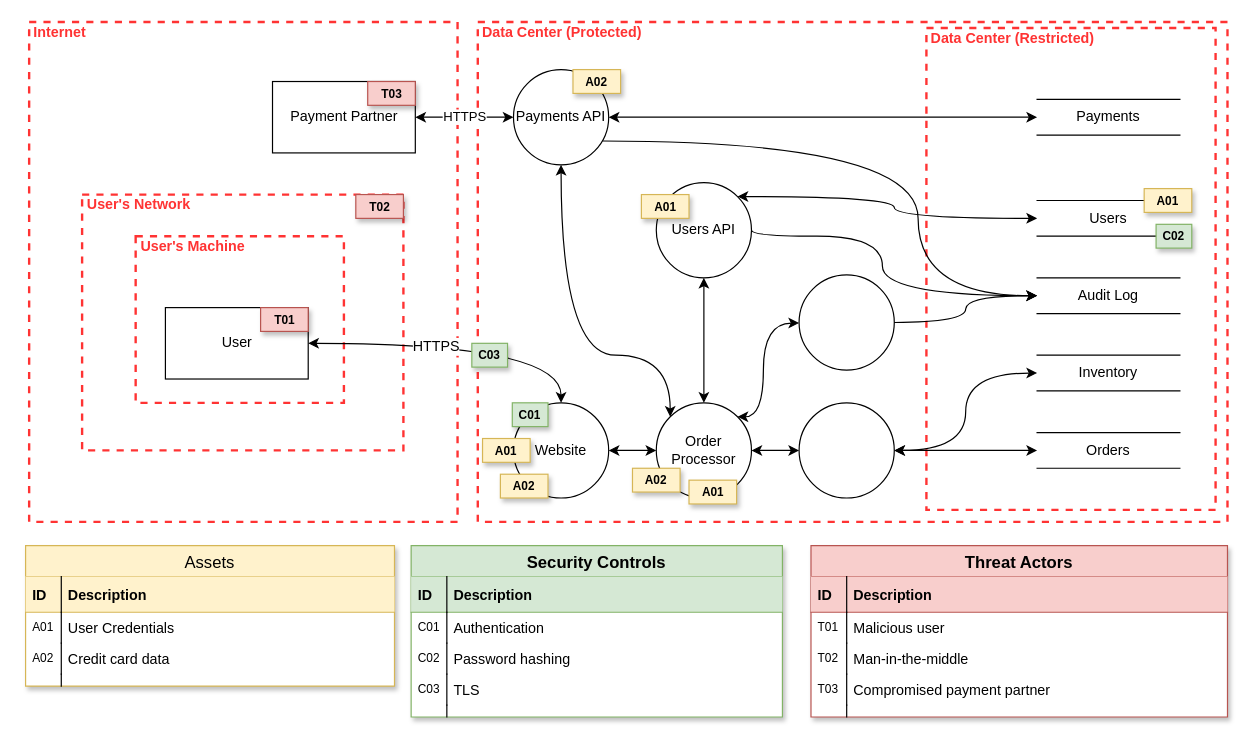
Image size: 1255x746. Some labels were removed from this diagram. The shapes that lost their labels are listed below. From the top down, each one's centre as x and y in pixels, then its label:
At (x=846, y=322): "Data Logger".
At (x=846, y=450): "Data Access".
